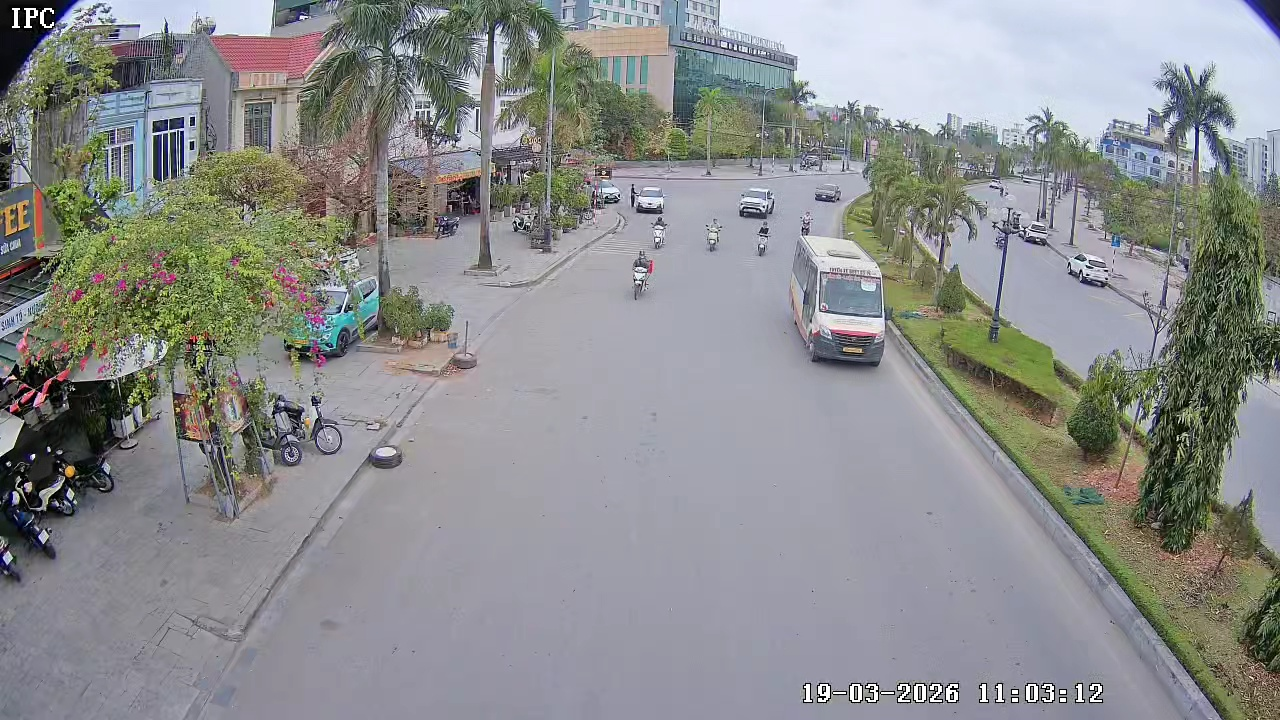bike: (264, 390, 304, 464), (307, 386, 344, 456)
bus: (790, 235, 888, 365)
car: (1066, 250, 1113, 289), (737, 185, 776, 219), (632, 185, 666, 213), (815, 181, 842, 203)
motorbike: (0, 527, 24, 585), (629, 248, 653, 300), (753, 220, 771, 257), (704, 217, 723, 252), (651, 213, 668, 250), (798, 207, 815, 236)
